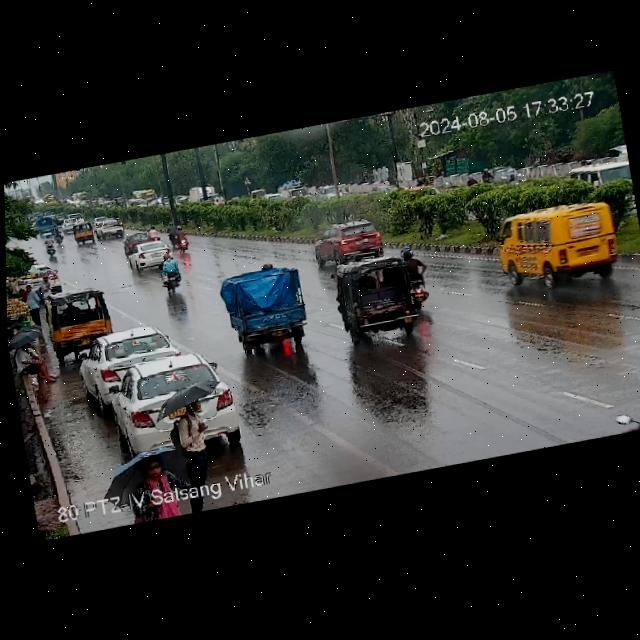bus: (131, 185, 162, 210)
car: (486, 192, 624, 298), (103, 346, 233, 438), (216, 258, 318, 354), (330, 251, 427, 350), (77, 321, 180, 398), (43, 284, 117, 354), (313, 213, 392, 269), (568, 156, 629, 192), (129, 238, 177, 270), (94, 216, 127, 239), (121, 231, 150, 255), (71, 222, 96, 248)
motorcycle: (402, 245, 434, 308), (153, 253, 186, 296), (174, 224, 190, 253), (463, 172, 480, 194), (43, 234, 57, 257), (480, 166, 496, 185), (168, 222, 178, 246), (53, 227, 64, 245), (148, 224, 160, 239), (506, 171, 519, 181)
person: (169, 393, 217, 486), (7, 317, 48, 383), (130, 452, 181, 495), (22, 282, 46, 327), (39, 275, 59, 321), (38, 215, 55, 236)
